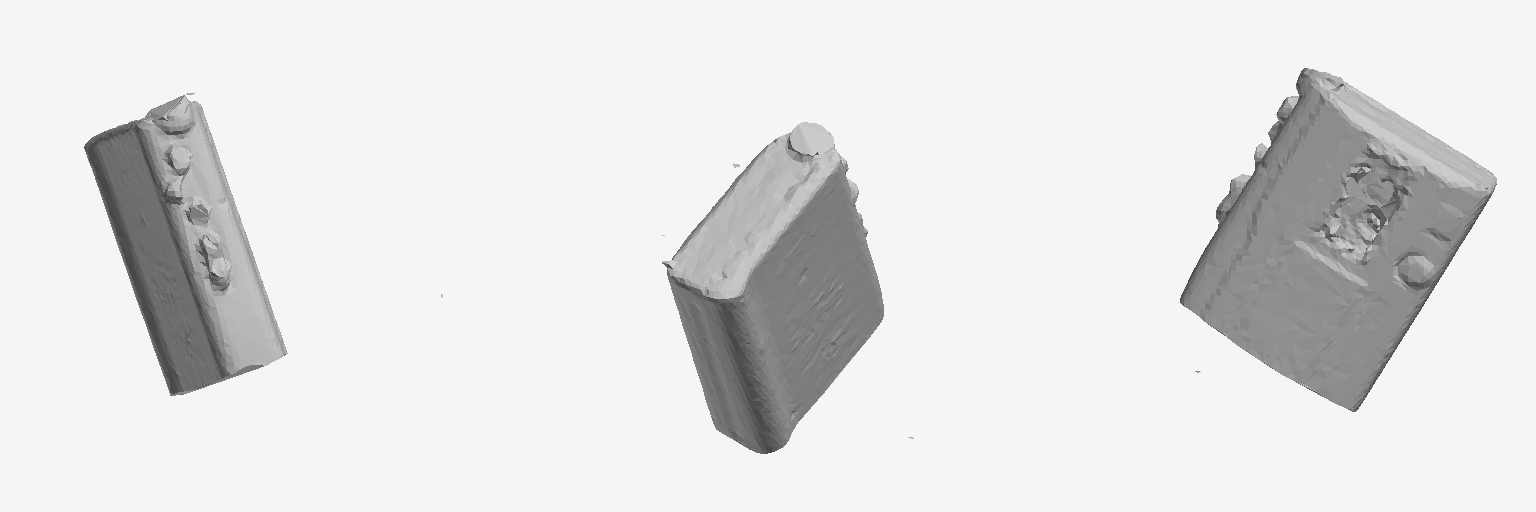
Rendered from walkman.obj.
3 views of the same model, side by side, from view 1: azimuth 30°, elevation 25°; view 2: azimuth 150°, elevation 25°; view 3: azimuth 270°, elevation 25° (orthographic).
Bounding box in the file's own units: 130 × 136 × 167.